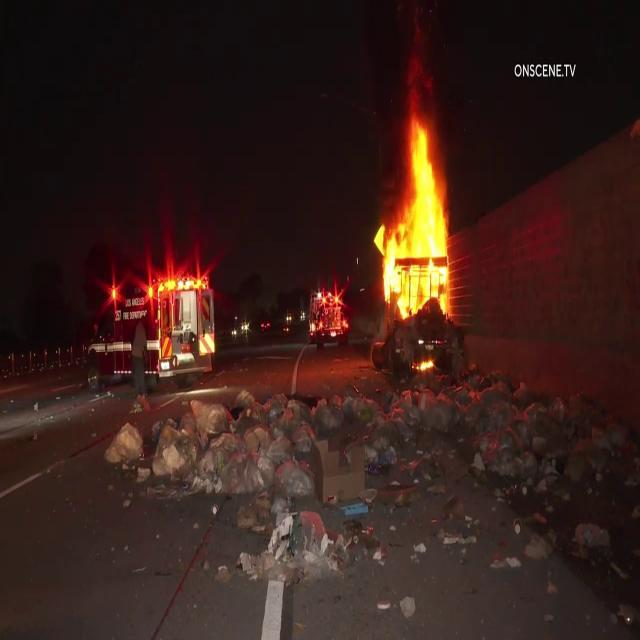Fire: (367, 94, 464, 324)
